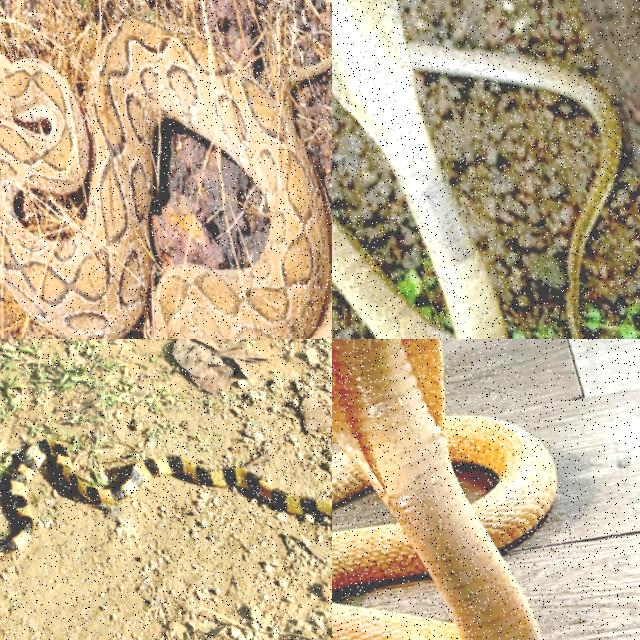Bungarus fasciatus: (0, 439, 331, 558)
Daboia siamensis: (0, 19, 331, 338)
Naja kaouthia: (332, 0, 620, 338), (332, 339, 555, 639)
